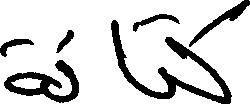X: (187, 0, 249, 103), (0, 34, 48, 102), (60, 25, 78, 103), (112, 15, 130, 87), (159, 9, 172, 103)
